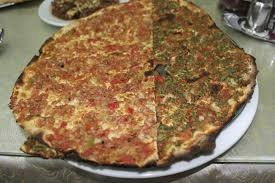lahmacun: (10, 0, 256, 166)
